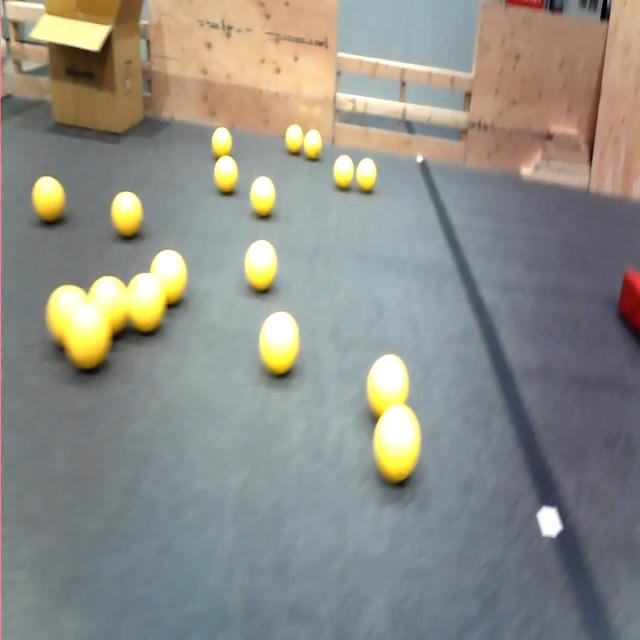fuel: (373, 405, 421, 483), (64, 300, 112, 370), (367, 354, 409, 417), (259, 312, 299, 375), (45, 285, 86, 345), (88, 276, 128, 335), (128, 273, 166, 333), (150, 249, 187, 305), (245, 240, 277, 291), (32, 176, 65, 223), (111, 192, 143, 238), (250, 176, 275, 216), (214, 156, 238, 193), (356, 158, 376, 192), (334, 155, 354, 189), (212, 127, 232, 158), (304, 129, 322, 159), (285, 124, 303, 154)
